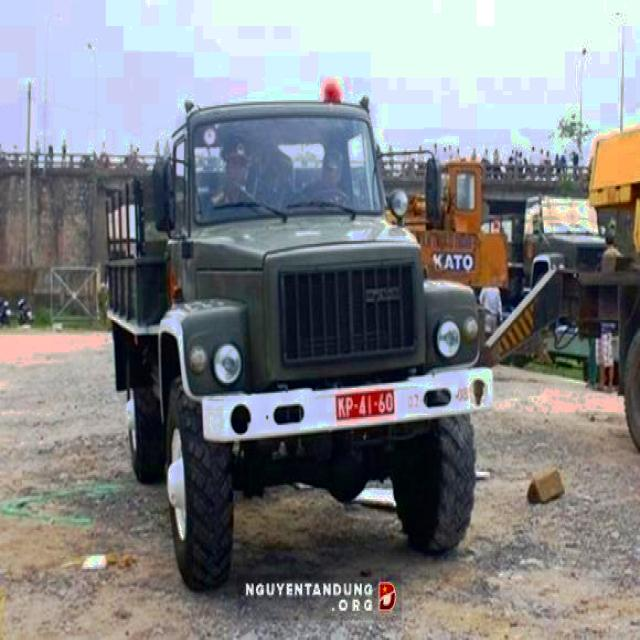license_plate: (337, 390, 395, 421)
